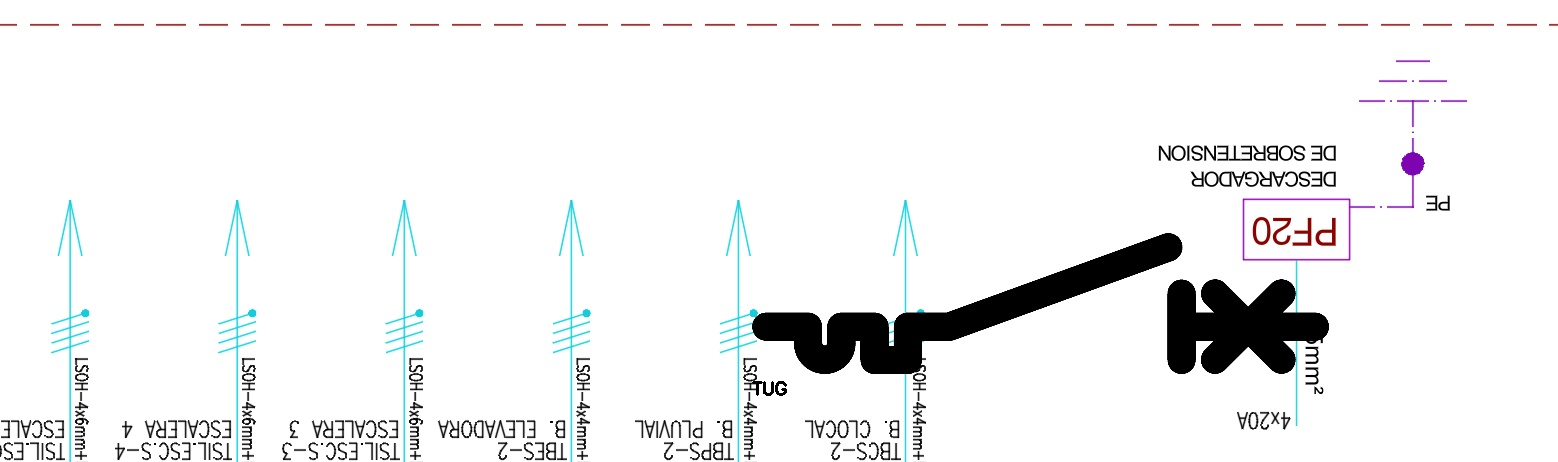interruptor_termomagnetico: (752, 233, 1329, 374)
